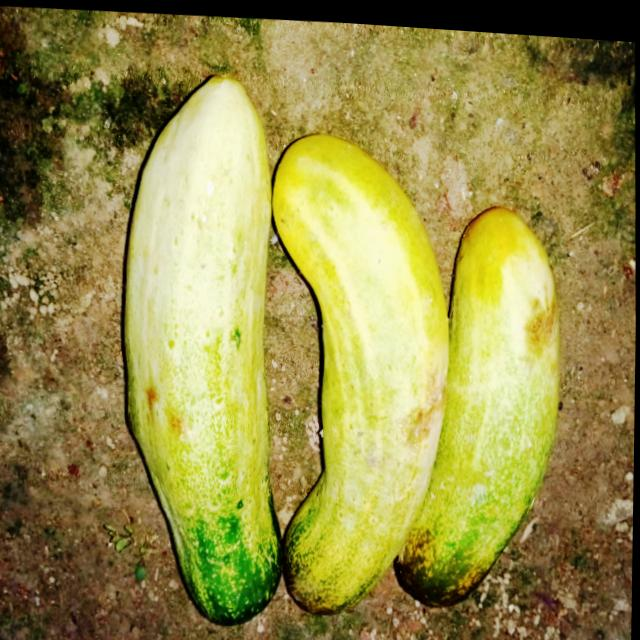Belly-Rot: (392, 361, 458, 448), (518, 281, 565, 370), (139, 376, 193, 444)
